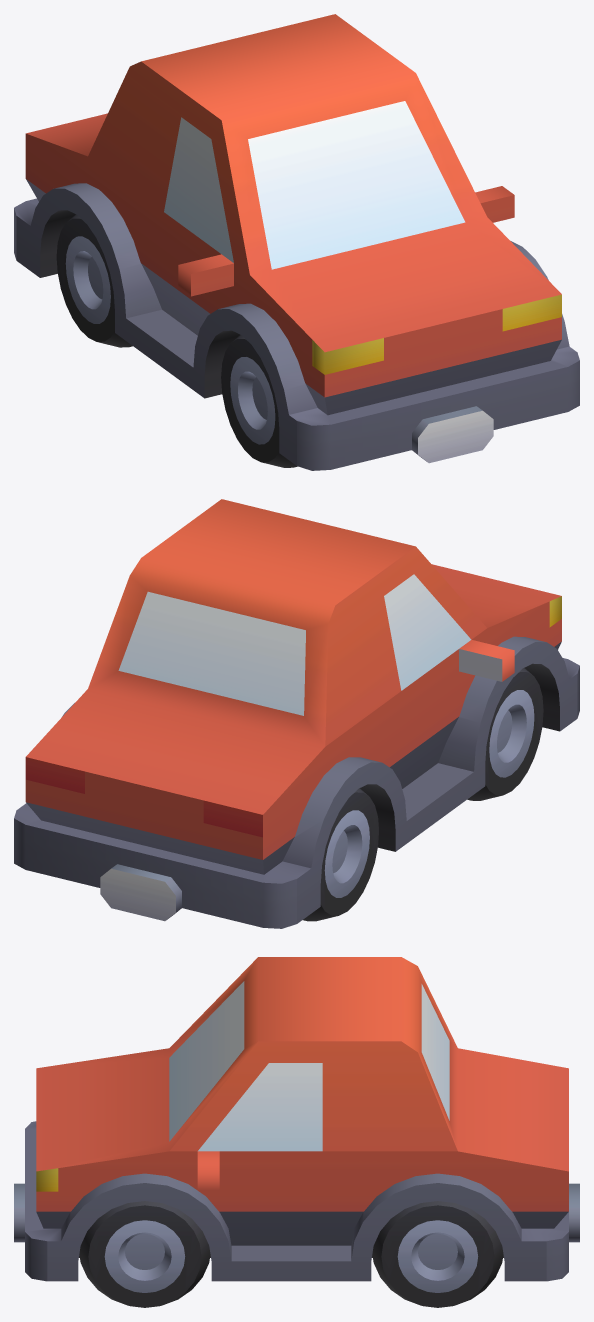
The model's file is k-car-sedan.glb.
3 views of the same model, one above another, from view 1: azimuth 30°, elevation 25°; view 2: azimuth 150°, elevation 25°; view 3: azimuth 270°, elevation 25° (orthographic). The views are drawn at different scales.
Parts seen in each view (by area): view 1: body, wheel-front-right, wheel-back-right; view 2: body, wheel-back-right, wheel-front-right; view 3: body, wheel-back-left, wheel-front-left.
Part boxes in pixels (x1,y1,x2,y2): body: (14, 14, 579, 470); wheel-front-right: (221, 335, 297, 467); wheel-back-right: (56, 214, 132, 347); body: (14, 499, 579, 928); wheel-back-right: (303, 788, 378, 921); wheel-front-right: (467, 668, 543, 800); body: (14, 957, 579, 1281); wheel-back-left: (372, 1201, 503, 1307); wheel-front-left: (79, 1201, 210, 1307).
Size of the model in its own units: 1.5 by 1.3 by 2.55.
1 material, 1 textured.
